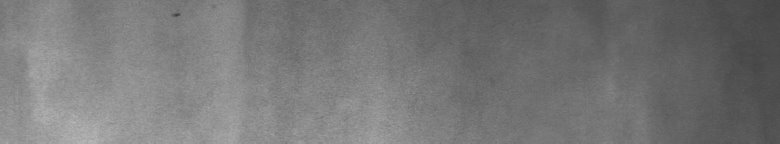fi: (171, 12, 181, 17)
